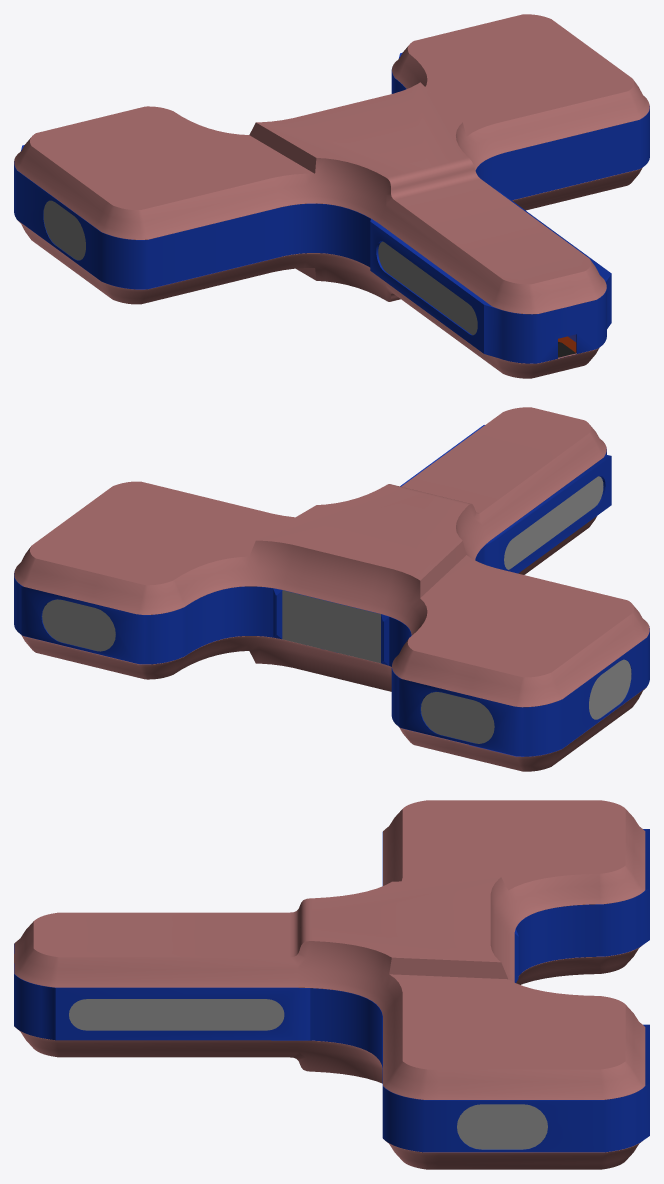
File: SS Module 1 Start.FBX
3 views of the same model, one above another, from view 1: azimuth 30°, elevation 25°; view 2: azimuth 150°, elevation 25°; view 3: azimuth 270°, elevation 25° (orthographic). The views are drawn at different scales.
Parts seen in each view (by area): view 1: Plane092, fLOOR001; view 2: Plane092, fLOOR001, Lg Window; view 3: Plane092, fLOOR001.
Part boxes in pixels (bbox=[...]): Plane092: bbox=[14, 14, 649, 363]; fLOOR001: bbox=[17, 167, 642, 378]; Plane092: bbox=[14, 407, 649, 756]; fLOOR001: bbox=[21, 516, 646, 771]; Lg Window: bbox=[282, 590, 380, 663]; Plane092: bbox=[14, 800, 649, 1152]; fLOOR001: bbox=[19, 946, 640, 1169].
Bounding box in the file's own units: 115 × 24.8 × 109.
